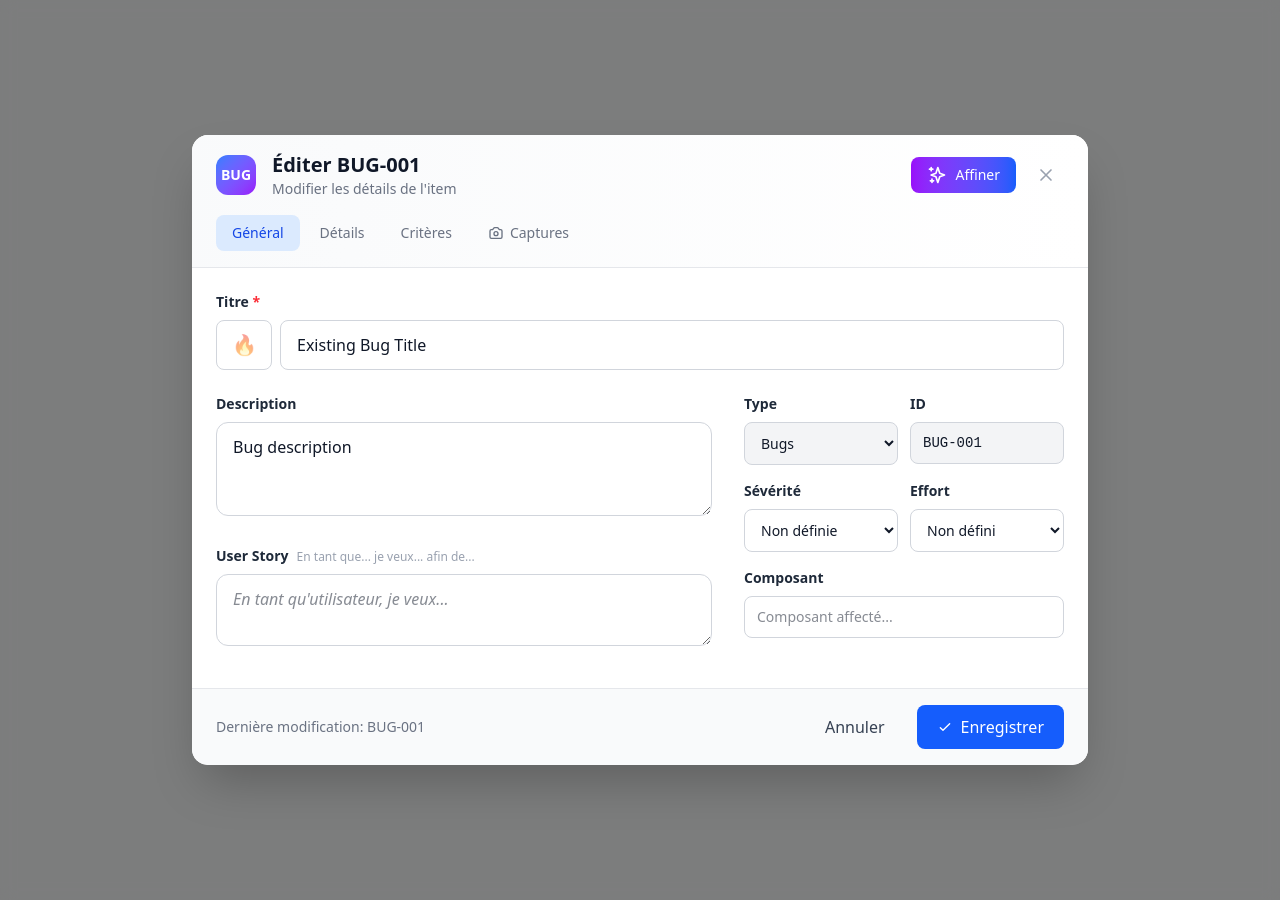
Scenario: ItemEditorModal - Tab Navigation › 7. switches to Details tab when clicked
Click the button "Détails" at (342,233), box [304,215,381,251]
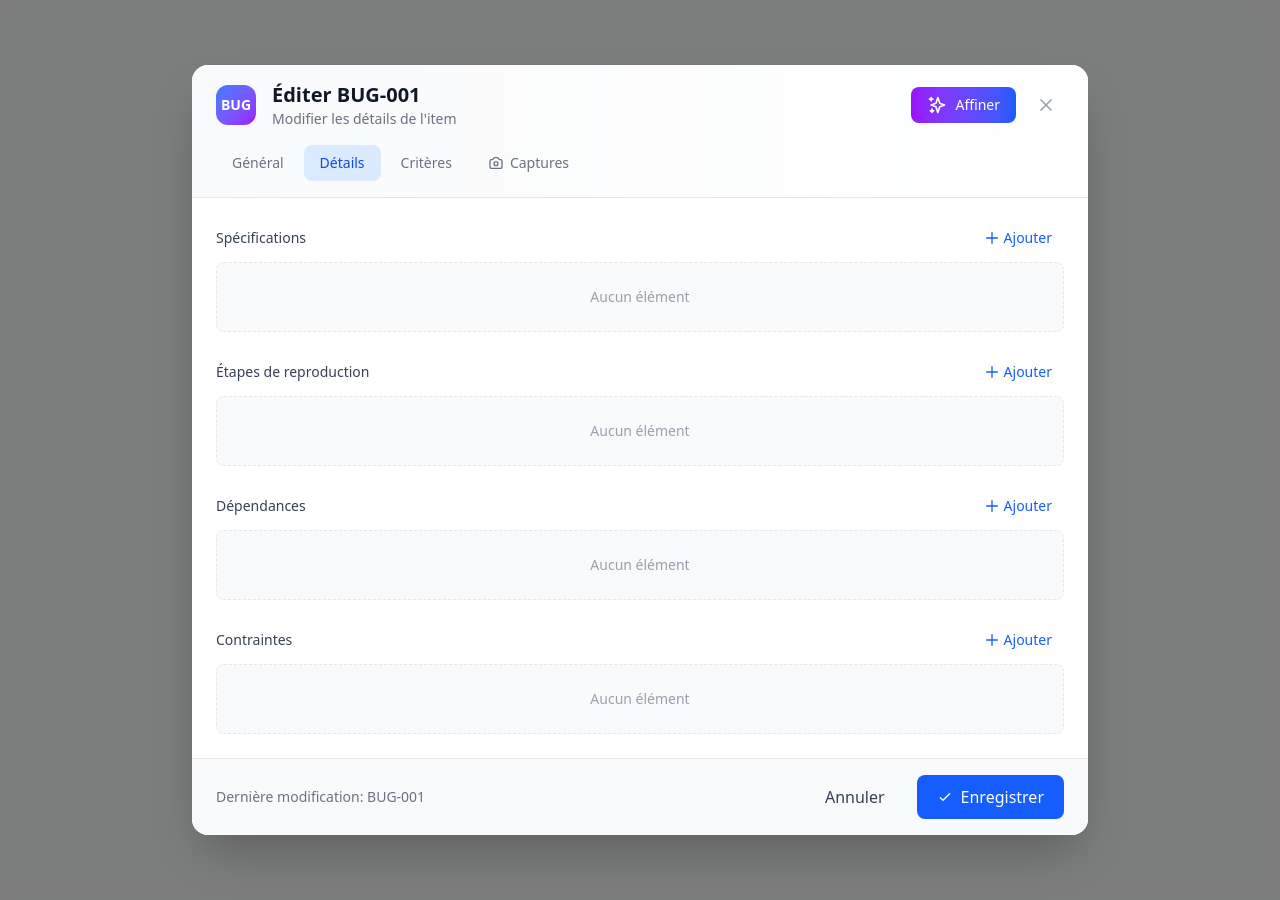
Expected: the text "Spécifications" is shown, [216,228,306,248]
Expected: the text "Dépendances" is shown, [216,496,306,516]
